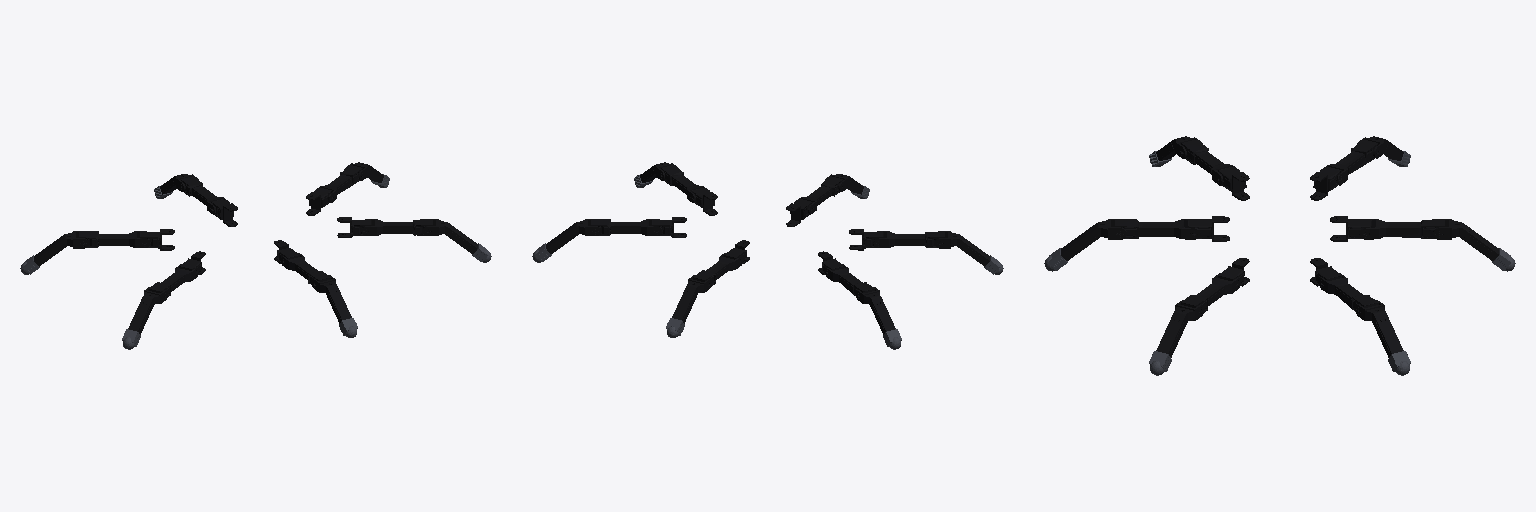
URDF robot description (slarc):
<?xml version="1.0"?>
<!-- SLARC aus dem FreeCAD-Modell (SLARC.FCStd): Femur 150 / Tibia-Sehne 175 / Knick 38.6°, Masse 3786 g.
     Generiert, nicht von Hand ändern. Gelenk-Namen und Vorzeichen wie slarc_sim_V10 (+ = nach unten). -->
<robot name="slarc">
  <link name="base_link">
    <visual><geometry><mesh filename="meshes/base.stl" scale="0.001 0.001 0.001"/></geometry><material name="petg"><color rgba="0.12 0.12 0.13 1"/></material></visual>
    <collision><origin xyz="0 0 -0.01795" rpy="0 0 0"/><geometry><box size="0.4 0.15 0.0421"/></geometry></collision>
    <collision><origin xyz="0 0 -0.01795" rpy="0 0 0"/><geometry><box size="0.04 0.2 0.0421"/></geometry></collision>
    <collision><geometry><mesh filename="meshes/cover_hull.stl" scale="0.001 0.001 0.001"/></geometry></collision>
    <collision><origin xyz="0.173125 0 0.03745" rpy="0 0 0"/><geometry><box size="0.01825 0.1312 0.0487"/></geometry></collision>
    <inertial><origin xyz="-0.00522437 -0.000395862 -0.00914557"/><mass value="2.26489"/><inertia ixx="0.00574905" ixy="-0.00013486" ixz="-0.00139472" iyy="0.0313669" iyz="1.77457e-05" izz="0.0344486"/></inertial>
  </link>
  <joint name="front_right_coxa_joint" type="revolute">
    <parent link="base_link"/><child link="front_right_coxa"/>
    <origin xyz="0.2 -0.075 0" rpy="0 0 -0.523599"/><axis xyz="0 0 1"/>
    <limit lower="-1.65806" upper="1.65806" effort="2.94" velocity="4.71"/>
  </joint>
  <link name="front_right_coxa">
    <visual><geometry><mesh filename="meshes/coxa_R.stl" scale="0.001 0.001 0.001"/></geometry><material name="petg"><color rgba="0.12 0.12 0.13 1"/></material></visual>
    <collision><origin xyz="0.02965 -0.000925 -0.017025"/><geometry><box size="0.0853 0.0401 0.04625"/></geometry></collision>
    <inertial><origin xyz="0.0427482 -7.02102e-06 -0.0170758"/><mass value="0.0770531"/><inertia ixx="1.64905e-05" ixy="-1.5774e-07" ixz="-1.67396e-07" iyy="3.35645e-05" iyz="2.74958e-11" izz="3.39713e-05"/></inertial>
  </link>
  <joint name="front_right_femur_joint" type="revolute">
    <parent link="front_right_coxa"/><child link="front_right_femur"/>
    <origin xyz="0.06 0 -0.017025"/><axis xyz="0 1 0"/>
    <limit lower="-1.95477" upper="1.95477" effort="2.94" velocity="4.71"/>
  </joint>
  <link name="front_right_femur">
    <visual><geometry><mesh filename="meshes/femur_R.stl" scale="0.001 0.001 0.001"/></geometry><material name="petg"><color rgba="0.12 0.12 0.13 1"/></material></visual>
    <collision><origin xyz="0.07465 -8.88178e-18 3.55271e-18"/><geometry><box size="0.1753 0.04625 0.0297"/></geometry></collision>
    <inertial><origin xyz="0.106117 -4.36011e-05 -8.58779e-06"/><mass value="0.102219"/><inertia ixx="2.12046e-05" ixy="-5.58873e-07" ixz="-2.74521e-08" iyy="0.00025022" iyz="3.82769e-11" izz="0.000258654"/></inertial>
  </link>
  <joint name="front_right_tibia_joint" type="revolute">
    <parent link="front_right_femur"/><child link="front_right_tibia"/>
    <origin xyz="0.15 0 0"/><axis xyz="0 1 0"/>
    <limit lower="-1.95477" upper="1.95477" effort="2.94" velocity="4.71"/>
  </joint>
  <link name="front_right_tibia">
    <visual><geometry><mesh filename="meshes/tibia_R.stl" scale="0.001 0.001 0.001"/></geometry><material name="petg"><color rgba="0.12 0.12 0.13 1"/></material></visual>
    <collision><origin xyz="0.0065 0 0" rpy="0 0 0"/><geometry><box size="0.039 0.046 0.026"/></geometry></collision>
    <collision><origin xyz="0.034116 0 0" rpy="0 0 0"/><geometry><box size="0.026232 0.028 0.02"/></geometry></collision>
    <collision><origin xyz="0.0906863 0 -0.0386805" rpy="0 0.673697 0"/><geometry><box size="0.116 0.028 0.02"/></geometry></collision>
    <inertial><origin xyz="0.0739933 -6.79299e-05 -0.0310953"/><mass value="0.0576457"/><inertia ixx="5.9581e-05" ixy="-2.89747e-07" ixz="7.36333e-05" iyy="0.000170393" iyz="1.21765e-07" izz="0.00012782"/></inertial>
  </link>
  <joint name="front_right_foot_joint" type="fixed">
    <parent link="front_right_tibia"/><child link="front_right_foot"/>
    <origin xyz="0.139141 0 -0.0773611"/>
  </joint>
  <link name="front_right_foot">
    <visual><geometry><mesh filename="meshes/foot_R.stl" scale="0.001 0.001 0.001"/></geometry><material name="tpu"><color rgba="0.30 0.31 0.34 1"/></material></visual>
    <collision><geometry><sphere radius="0.016"/></geometry></collision>
    <inertial><origin xyz="-0.00259296 -5.28152e-12 0.00206994"/><mass value="0.0166797"/><inertia ixx="3.16438e-06" ixy="3.33361e-16" ixz="5.23388e-07" iyy="3.48927e-06" iyz="-7.71074e-16" izz="3.40221e-06"/></inertial>
  </link>
  <joint name="front_left_coxa_joint" type="revolute">
    <parent link="base_link"/><child link="front_left_coxa"/>
    <origin xyz="0.2 0.075 0" rpy="0 0 0.523599"/><axis xyz="0 0 1"/>
    <limit lower="-1.65806" upper="1.65806" effort="2.94" velocity="4.71"/>
  </joint>
  <link name="front_left_coxa">
    <visual><geometry><mesh filename="meshes/coxa_L.stl" scale="0.001 0.001 0.001"/></geometry><material name="petg"><color rgba="0.12 0.12 0.13 1"/></material></visual>
    <collision><origin xyz="0.02965 0.000925 -0.017025"/><geometry><box size="0.0853 0.0401 0.04625"/></geometry></collision>
    <inertial><origin xyz="0.0427482 7.02102e-06 -0.0170758"/><mass value="0.0770531"/><inertia ixx="1.64905e-05" ixy="1.5774e-07" ixz="-1.67396e-07" iyy="3.35645e-05" iyz="-2.7491e-11" izz="3.39713e-05"/></inertial>
  </link>
  <joint name="front_left_femur_joint" type="revolute">
    <parent link="front_left_coxa"/><child link="front_left_femur"/>
    <origin xyz="0.06 0 -0.017025"/><axis xyz="0 1 0"/>
    <limit lower="-1.95477" upper="1.95477" effort="2.94" velocity="4.71"/>
  </joint>
  <link name="front_left_femur">
    <visual><geometry><mesh filename="meshes/femur_L.stl" scale="0.001 0.001 0.001"/></geometry><material name="petg"><color rgba="0.12 0.12 0.13 1"/></material></visual>
    <collision><origin xyz="0.07465 8.88178e-18 -3.55271e-18"/><geometry><box size="0.1753 0.04625 0.0297"/></geometry></collision>
    <inertial><origin xyz="0.106117 4.36011e-05 -8.58759e-06"/><mass value="0.102219"/><inertia ixx="2.12046e-05" ixy="5.58873e-07" ixz="-2.74528e-08" iyy="0.00025022" iyz="-3.82713e-11" izz="0.000258654"/></inertial>
  </link>
  <joint name="front_left_tibia_joint" type="revolute">
    <parent link="front_left_femur"/><child link="front_left_tibia"/>
    <origin xyz="0.15 0 0"/><axis xyz="0 1 0"/>
    <limit lower="-1.95477" upper="1.95477" effort="2.94" velocity="4.71"/>
  </joint>
  <link name="front_left_tibia">
    <visual><geometry><mesh filename="meshes/tibia_L.stl" scale="0.001 0.001 0.001"/></geometry><material name="petg"><color rgba="0.12 0.12 0.13 1"/></material></visual>
    <collision><origin xyz="0.0065 0 0" rpy="0 0 0"/><geometry><box size="0.039 0.046 0.026"/></geometry></collision>
    <collision><origin xyz="0.034116 0 0" rpy="0 0 0"/><geometry><box size="0.026232 0.028 0.02"/></geometry></collision>
    <collision><origin xyz="0.0906863 0 -0.0386805" rpy="0 0.673697 0"/><geometry><box size="0.116 0.028 0.02"/></geometry></collision>
    <inertial><origin xyz="0.0739933 6.79299e-05 -0.0310953"/><mass value="0.0576457"/><inertia ixx="5.9581e-05" ixy="2.89747e-07" ixz="7.36333e-05" iyy="0.000170393" iyz="-1.21765e-07" izz="0.00012782"/></inertial>
  </link>
  <joint name="front_left_foot_joint" type="fixed">
    <parent link="front_left_tibia"/><child link="front_left_foot"/>
    <origin xyz="0.139141 0 -0.0773611"/>
  </joint>
  <link name="front_left_foot">
    <visual><geometry><mesh filename="meshes/foot_L.stl" scale="0.001 0.001 0.001"/></geometry><material name="tpu"><color rgba="0.30 0.31 0.34 1"/></material></visual>
    <collision><geometry><sphere radius="0.016"/></geometry></collision>
    <inertial><origin xyz="-0.00259296 2.14703e-12 0.00206994"/><mass value="0.0166797"/><inertia ixx="3.16438e-06" ixy="-3.45931e-16" ixz="5.23388e-07" iyy="3.48927e-06" iyz="-2.28773e-16" izz="3.40221e-06"/></inertial>
  </link>
  <joint name="mid_right_coxa_joint" type="revolute">
    <parent link="base_link"/><child link="mid_right_coxa"/>
    <origin xyz="0 -0.115 0" rpy="0 0 -1.5708"/><axis xyz="0 0 1"/>
    <limit lower="-1.65806" upper="1.65806" effort="2.94" velocity="4.71"/>
  </joint>
  <link name="mid_right_coxa">
    <visual><geometry><mesh filename="meshes/coxa_R.stl" scale="0.001 0.001 0.001"/></geometry><material name="petg"><color rgba="0.12 0.12 0.13 1"/></material></visual>
    <collision><origin xyz="0.02965 -0.000925 -0.017025"/><geometry><box size="0.0853 0.0401 0.04625"/></geometry></collision>
    <inertial><origin xyz="0.0427482 -7.02102e-06 -0.0170758"/><mass value="0.0770531"/><inertia ixx="1.64905e-05" ixy="-1.5774e-07" ixz="-1.67396e-07" iyy="3.35645e-05" iyz="2.74958e-11" izz="3.39713e-05"/></inertial>
  </link>
  <joint name="mid_right_femur_joint" type="revolute">
    <parent link="mid_right_coxa"/><child link="mid_right_femur"/>
    <origin xyz="0.06 0 -0.017025"/><axis xyz="0 1 0"/>
    <limit lower="-1.95477" upper="1.95477" effort="2.94" velocity="4.71"/>
  </joint>
  <link name="mid_right_femur">
    <visual><geometry><mesh filename="meshes/femur_R.stl" scale="0.001 0.001 0.001"/></geometry><material name="petg"><color rgba="0.12 0.12 0.13 1"/></material></visual>
    <collision><origin xyz="0.07465 -8.88178e-18 3.55271e-18"/><geometry><box size="0.1753 0.04625 0.0297"/></geometry></collision>
    <inertial><origin xyz="0.106117 -4.36011e-05 -8.58779e-06"/><mass value="0.102219"/><inertia ixx="2.12046e-05" ixy="-5.58873e-07" ixz="-2.74521e-08" iyy="0.00025022" iyz="3.82769e-11" izz="0.000258654"/></inertial>
  </link>
  <joint name="mid_right_tibia_joint" type="revolute">
    <parent link="mid_right_femur"/><child link="mid_right_tibia"/>
    <origin xyz="0.15 0 0"/><axis xyz="0 1 0"/>
    <limit lower="-1.95477" upper="1.95477" effort="2.94" velocity="4.71"/>
  </joint>
  <link name="mid_right_tibia">
    <visual><geometry><mesh filename="meshes/tibia_R.stl" scale="0.001 0.001 0.001"/></geometry><material name="petg"><color rgba="0.12 0.12 0.13 1"/></material></visual>
    <collision><origin xyz="0.0065 0 0" rpy="0 0 0"/><geometry><box size="0.039 0.046 0.026"/></geometry></collision>
    <collision><origin xyz="0.034116 0 0" rpy="0 0 0"/><geometry><box size="0.026232 0.028 0.02"/></geometry></collision>
    <collision><origin xyz="0.0906863 0 -0.0386805" rpy="0 0.673697 0"/><geometry><box size="0.116 0.028 0.02"/></geometry></collision>
    <inertial><origin xyz="0.0739933 -6.79299e-05 -0.0310953"/><mass value="0.0576457"/><inertia ixx="5.9581e-05" ixy="-2.89747e-07" ixz="7.36333e-05" iyy="0.000170393" iyz="1.21765e-07" izz="0.00012782"/></inertial>
  </link>
  <joint name="mid_right_foot_joint" type="fixed">
    <parent link="mid_right_tibia"/><child link="mid_right_foot"/>
    <origin xyz="0.139141 0 -0.0773611"/>
  </joint>
  <link name="mid_right_foot">
    <visual><geometry><mesh filename="meshes/foot_R.stl" scale="0.001 0.001 0.001"/></geometry><material name="tpu"><color rgba="0.30 0.31 0.34 1"/></material></visual>
    <collision><geometry><sphere radius="0.016"/></geometry></collision>
    <inertial><origin xyz="-0.00259296 -5.28152e-12 0.00206994"/><mass value="0.0166797"/><inertia ixx="3.16438e-06" ixy="3.33361e-16" ixz="5.23388e-07" iyy="3.48927e-06" iyz="-7.71074e-16" izz="3.40221e-06"/></inertial>
  </link>
  <joint name="mid_left_coxa_joint" type="revolute">
    <parent link="base_link"/><child link="mid_left_coxa"/>
    <origin xyz="0 0.115 0" rpy="0 0 1.5708"/><axis xyz="0 0 1"/>
    <limit lower="-1.65806" upper="1.65806" effort="2.94" velocity="4.71"/>
  </joint>
  <link name="mid_left_coxa">
    <visual><geometry><mesh filename="meshes/coxa_L.stl" scale="0.001 0.001 0.001"/></geometry><material name="petg"><color rgba="0.12 0.12 0.13 1"/></material></visual>
    <collision><origin xyz="0.02965 0.000925 -0.017025"/><geometry><box size="0.0853 0.0401 0.04625"/></geometry></collision>
    <inertial><origin xyz="0.0427482 7.02102e-06 -0.0170758"/><mass value="0.0770531"/><inertia ixx="1.64905e-05" ixy="1.5774e-07" ixz="-1.67396e-07" iyy="3.35645e-05" iyz="-2.7491e-11" izz="3.39713e-05"/></inertial>
  </link>
  <joint name="mid_left_femur_joint" type="revolute">
    <parent link="mid_left_coxa"/><child link="mid_left_femur"/>
    <origin xyz="0.06 0 -0.017025"/><axis xyz="0 1 0"/>
    <limit lower="-1.95477" upper="1.95477" effort="2.94" velocity="4.71"/>
  </joint>
  <link name="mid_left_femur">
    <visual><geometry><mesh filename="meshes/femur_L.stl" scale="0.001 0.001 0.001"/></geometry><material name="petg"><color rgba="0.12 0.12 0.13 1"/></material></visual>
    <collision><origin xyz="0.07465 8.88178e-18 -3.55271e-18"/><geometry><box size="0.1753 0.04625 0.0297"/></geometry></collision>
    <inertial><origin xyz="0.106117 4.36011e-05 -8.58759e-06"/><mass value="0.102219"/><inertia ixx="2.12046e-05" ixy="5.58873e-07" ixz="-2.74528e-08" iyy="0.00025022" iyz="-3.82713e-11" izz="0.000258654"/></inertial>
  </link>
  <joint name="mid_left_tibia_joint" type="revolute">
    <parent link="mid_left_femur"/><child link="mid_left_tibia"/>
    <origin xyz="0.15 0 0"/><axis xyz="0 1 0"/>
    <limit lower="-1.95477" upper="1.95477" effort="2.94" velocity="4.71"/>
  </joint>
  <link name="mid_left_tibia">
    <visual><geometry><mesh filename="meshes/tibia_L.stl" scale="0.001 0.001 0.001"/></geometry><material name="petg"><color rgba="0.12 0.12 0.13 1"/></material></visual>
    <collision><origin xyz="0.0065 0 0" rpy="0 0 0"/><geometry><box size="0.039 0.046 0.026"/></geometry></collision>
    <collision><origin xyz="0.034116 0 0" rpy="0 0 0"/><geometry><box size="0.026232 0.028 0.02"/></geometry></collision>
    <collision><origin xyz="0.0906863 0 -0.0386805" rpy="0 0.673697 0"/><geometry><box size="0.116 0.028 0.02"/></geometry></collision>
    <inertial><origin xyz="0.0739933 6.79299e-05 -0.0310953"/><mass value="0.0576457"/><inertia ixx="5.9581e-05" ixy="2.89747e-07" ixz="7.36333e-05" iyy="0.000170393" iyz="-1.21765e-07" izz="0.00012782"/></inertial>
  </link>
  <joint name="mid_left_foot_joint" type="fixed">
    <parent link="mid_left_tibia"/><child link="mid_left_foot"/>
    <origin xyz="0.139141 0 -0.0773611"/>
  </joint>
  <link name="mid_left_foot">
    <visual><geometry><mesh filename="meshes/foot_L.stl" scale="0.001 0.001 0.001"/></geometry><material name="tpu"><color rgba="0.30 0.31 0.34 1"/></material></visual>
    <collision><geometry><sphere radius="0.016"/></geometry></collision>
    <inertial><origin xyz="-0.00259296 2.14703e-12 0.00206994"/><mass value="0.0166797"/><inertia ixx="3.16438e-06" ixy="-3.45931e-16" ixz="5.23388e-07" iyy="3.48927e-06" iyz="-2.28773e-16" izz="3.40221e-06"/></inertial>
  </link>
  <joint name="rear_right_coxa_joint" type="revolute">
    <parent link="base_link"/><child link="rear_right_coxa"/>
    <origin xyz="-0.2 -0.075 0" rpy="0 0 -2.61799"/><axis xyz="0 0 1"/>
    <limit lower="-1.65806" upper="1.65806" effort="2.94" velocity="4.71"/>
  </joint>
  <link name="rear_right_coxa">
    <visual><geometry><mesh filename="meshes/coxa_R.stl" scale="0.001 0.001 0.001"/></geometry><material name="petg"><color rgba="0.12 0.12 0.13 1"/></material></visual>
    <collision><origin xyz="0.02965 -0.000925 -0.017025"/><geometry><box size="0.0853 0.0401 0.04625"/></geometry></collision>
    <inertial><origin xyz="0.0427482 -7.02102e-06 -0.0170758"/><mass value="0.0770531"/><inertia ixx="1.64905e-05" ixy="-1.5774e-07" ixz="-1.67396e-07" iyy="3.35645e-05" iyz="2.74958e-11" izz="3.39713e-05"/></inertial>
  </link>
  <joint name="rear_right_femur_joint" type="revolute">
    <parent link="rear_right_coxa"/><child link="rear_right_femur"/>
    <origin xyz="0.06 0 -0.017025"/><axis xyz="0 1 0"/>
    <limit lower="-1.95477" upper="1.95477" effort="2.94" velocity="4.71"/>
  </joint>
  <link name="rear_right_femur">
    <visual><geometry><mesh filename="meshes/femur_R.stl" scale="0.001 0.001 0.001"/></geometry><material name="petg"><color rgba="0.12 0.12 0.13 1"/></material></visual>
    <collision><origin xyz="0.07465 -8.88178e-18 3.55271e-18"/><geometry><box size="0.1753 0.04625 0.0297"/></geometry></collision>
    <inertial><origin xyz="0.106117 -4.36011e-05 -8.58779e-06"/><mass value="0.102219"/><inertia ixx="2.12046e-05" ixy="-5.58873e-07" ixz="-2.74521e-08" iyy="0.00025022" iyz="3.82769e-11" izz="0.000258654"/></inertial>
  </link>
  <joint name="rear_right_tibia_joint" type="revolute">
    <parent link="rear_right_femur"/><child link="rear_right_tibia"/>
    <origin xyz="0.15 0 0"/><axis xyz="0 1 0"/>
    <limit lower="-1.95477" upper="1.95477" effort="2.94" velocity="4.71"/>
  </joint>
  <link name="rear_right_tibia">
    <visual><geometry><mesh filename="meshes/tibia_R.stl" scale="0.001 0.001 0.001"/></geometry><material name="petg"><color rgba="0.12 0.12 0.13 1"/></material></visual>
    <collision><origin xyz="0.0065 0 0" rpy="0 0 0"/><geometry><box size="0.039 0.046 0.026"/></geometry></collision>
    <collision><origin xyz="0.034116 0 0" rpy="0 0 0"/><geometry><box size="0.026232 0.028 0.02"/></geometry></collision>
    <collision><origin xyz="0.0906863 0 -0.0386805" rpy="0 0.673697 0"/><geometry><box size="0.116 0.028 0.02"/></geometry></collision>
    <inertial><origin xyz="0.0739933 -6.79299e-05 -0.0310953"/><mass value="0.0576457"/><inertia ixx="5.9581e-05" ixy="-2.89747e-07" ixz="7.36333e-05" iyy="0.000170393" iyz="1.21765e-07" izz="0.00012782"/></inertial>
  </link>
  <joint name="rear_right_foot_joint" type="fixed">
    <parent link="rear_right_tibia"/><child link="rear_right_foot"/>
    <origin xyz="0.139141 0 -0.0773611"/>
  </joint>
  <link name="rear_right_foot">
    <visual><geometry><mesh filename="meshes/foot_R.stl" scale="0.001 0.001 0.001"/></geometry><material name="tpu"><color rgba="0.30 0.31 0.34 1"/></material></visual>
    <collision><geometry><sphere radius="0.016"/></geometry></collision>
    <inertial><origin xyz="-0.00259296 -5.28152e-12 0.00206994"/><mass value="0.0166797"/><inertia ixx="3.16438e-06" ixy="3.33361e-16" ixz="5.23388e-07" iyy="3.48927e-06" iyz="-7.71074e-16" izz="3.40221e-06"/></inertial>
  </link>
  <joint name="rear_left_coxa_joint" type="revolute">
    <parent link="base_link"/><child link="rear_left_coxa"/>
    <origin xyz="-0.2 0.075 0" rpy="0 0 2.61799"/><axis xyz="0 0 1"/>
    <limit lower="-1.65806" upper="1.65806" effort="2.94" velocity="4.71"/>
  </joint>
  <link name="rear_left_coxa">
    <visual><geometry><mesh filename="meshes/coxa_L.stl" scale="0.001 0.001 0.001"/></geometry><material name="petg"><color rgba="0.12 0.12 0.13 1"/></material></visual>
    <collision><origin xyz="0.02965 0.000925 -0.017025"/><geometry><box size="0.0853 0.0401 0.04625"/></geometry></collision>
    <inertial><origin xyz="0.0427482 7.02102e-06 -0.0170758"/><mass value="0.0770531"/><inertia ixx="1.64905e-05" ixy="1.5774e-07" ixz="-1.67396e-07" iyy="3.35645e-05" iyz="-2.7491e-11" izz="3.39713e-05"/></inertial>
  </link>
  <joint name="rear_left_femur_joint" type="revolute">
    <parent link="rear_left_coxa"/><child link="rear_left_femur"/>
    <origin xyz="0.06 0 -0.017025"/><axis xyz="0 1 0"/>
    <limit lower="-1.95477" upper="1.95477" effort="2.94" velocity="4.71"/>
  </joint>
  <link name="rear_left_femur">
    <visual><geometry><mesh filename="meshes/femur_L.stl" scale="0.001 0.001 0.001"/></geometry><material name="petg"><color rgba="0.12 0.12 0.13 1"/></material></visual>
    <collision><origin xyz="0.07465 8.88178e-18 -3.55271e-18"/><geometry><box size="0.1753 0.04625 0.0297"/></geometry></collision>
    <inertial><origin xyz="0.106117 4.36011e-05 -8.58759e-06"/><mass value="0.102219"/><inertia ixx="2.12046e-05" ixy="5.58873e-07" ixz="-2.74528e-08" iyy="0.00025022" iyz="-3.82713e-11" izz="0.000258654"/></inertial>
  </link>
  <joint name="rear_left_tibia_joint" type="revolute">
    <parent link="rear_left_femur"/><child link="rear_left_tibia"/>
    <origin xyz="0.15 0 0"/><axis xyz="0 1 0"/>
    <limit lower="-1.95477" upper="1.95477" effort="2.94" velocity="4.71"/>
  </joint>
  <link name="rear_left_tibia">
    <visual><geometry><mesh filename="meshes/tibia_L.stl" scale="0.001 0.001 0.001"/></geometry><material name="petg"><color rgba="0.12 0.12 0.13 1"/></material></visual>
    <collision><origin xyz="0.0065 0 0" rpy="0 0 0"/><geometry><box size="0.039 0.046 0.026"/></geometry></collision>
    <collision><origin xyz="0.034116 0 0" rpy="0 0 0"/><geometry><box size="0.026232 0.028 0.02"/></geometry></collision>
    <collision><origin xyz="0.0906863 0 -0.0386805" rpy="0 0.673697 0"/><geometry><box size="0.116 0.028 0.02"/></geometry></collision>
    <inertial><origin xyz="0.0739933 6.79299e-05 -0.0310953"/><mass value="0.0576457"/><inertia ixx="5.9581e-05" ixy="2.89747e-07" ixz="7.36333e-05" iyy="0.000170393" iyz="-1.21765e-07" izz="0.00012782"/></inertial>
  </link>
  <joint name="rear_left_foot_joint" type="fixed">
    <parent link="rear_left_tibia"/><child link="rear_left_foot"/>
    <origin xyz="0.139141 0 -0.0773611"/>
  </joint>
  <link name="rear_left_foot">
    <visual><geometry><mesh filename="meshes/foot_L.stl" scale="0.001 0.001 0.001"/></geometry><material name="tpu"><color rgba="0.30 0.31 0.34 1"/></material></visual>
    <collision><geometry><sphere radius="0.016"/></geometry></collision>
    <inertial><origin xyz="-0.00259296 2.14703e-12 0.00206994"/><mass value="0.0166797"/><inertia ixx="3.16438e-06" ixy="-3.45931e-16" ixz="5.23388e-07" iyy="3.48927e-06" iyz="-2.28773e-16" izz="3.40221e-06"/></inertial>
  </link>
</robot>

--- What the picture shows (computed from the rendered views, not written in the file) ---
3 views of the same robot in one strip: view 1: azimuth 30°, elevation 25°; view 2: azimuth 150°, elevation 25°; view 3: azimuth 270°, elevation 25° (orthographic).
Robot: slarc — 25 links, 24 joints (18 revolute, 6 fixed); root link base_link; default pose: every joint at zero.
Visible links, largest first — view 1: rear_left_femur, front_right_femur, mid_right_tibia, rear_right_tibia, rear_left_tibia, front_right_tibia, front_left_femur, mid_right_femur, mid_left_femur, rear_right_femur; view 2: front_left_femur, rear_right_femur, mid_left_tibia, rear_left_tibia, rear_right_tibia, front_left_tibia, mid_left_femur, rear_left_femur, front_right_femur, mid_right_femur; view 3: mid_left_femur, mid_right_femur, front_left_tibia, front_right_tibia, mid_right_tibia, mid_left_tibia, rear_left_femur, rear_right_femur, front_left_femur, front_right_femur, rear_left_coxa, rear_right_coxa (+2 smaller).
Link boxes in pixels (bbox=[...]): rear_left_femur: bbox=[79, 231, 150, 247]; front_right_femur: bbox=[361, 219, 432, 235]; mid_right_tibia: bbox=[312, 275, 351, 323]; rear_right_tibia: bbox=[128, 287, 167, 334]; rear_left_tibia: bbox=[34, 231, 88, 266]; front_right_tibia: bbox=[423, 219, 477, 253]; front_left_femur: bbox=[315, 165, 362, 202]; mid_right_femur: bbox=[281, 253, 330, 284]; mid_left_femur: bbox=[181, 176, 229, 214]; rear_right_femur: bbox=[149, 264, 198, 296]; front_left_femur: bbox=[591, 219, 662, 235]; rear_right_femur: bbox=[873, 231, 944, 247]; mid_left_tibia: bbox=[672, 275, 711, 323]; rear_left_tibia: bbox=[856, 287, 895, 334]; rear_right_tibia: bbox=[935, 231, 989, 266]; front_left_tibia: bbox=[546, 219, 600, 253]; mid_left_femur: bbox=[693, 253, 742, 285]; rear_left_femur: bbox=[825, 264, 874, 295]; front_right_femur: bbox=[661, 165, 709, 202]; mid_right_femur: bbox=[794, 176, 842, 214]; mid_left_femur: bbox=[1359, 219, 1444, 239]; mid_right_femur: bbox=[1115, 219, 1200, 239]; front_left_tibia: bbox=[1355, 300, 1403, 357]; front_right_tibia: bbox=[1156, 300, 1204, 357]; mid_right_tibia: bbox=[1061, 219, 1126, 260]; mid_left_tibia: bbox=[1433, 219, 1498, 260]; rear_left_femur: bbox=[1320, 140, 1377, 185]; rear_right_femur: bbox=[1181, 140, 1239, 185]; front_left_femur: bbox=[1319, 273, 1378, 311]; front_right_femur: bbox=[1181, 273, 1240, 312]; rear_left_coxa: bbox=[1310, 167, 1341, 200]; rear_right_coxa: bbox=[1218, 167, 1249, 200].
Size in the robot's own frame: 1.04 by 0.96 by 0.1163 metres.
24 mesh visuals loaded from 9 distinct referenced files (8 binary STL); not drawn: 1 (reference not matched to a file when rendering).
